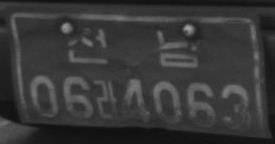0: (29, 73, 60, 118), (153, 79, 182, 125)
3: (221, 83, 252, 130)
4: (120, 77, 152, 124)
6: (62, 74, 95, 121), (185, 80, 217, 128)
라: (94, 79, 119, 119)
전남_D: (66, 24, 201, 68)
